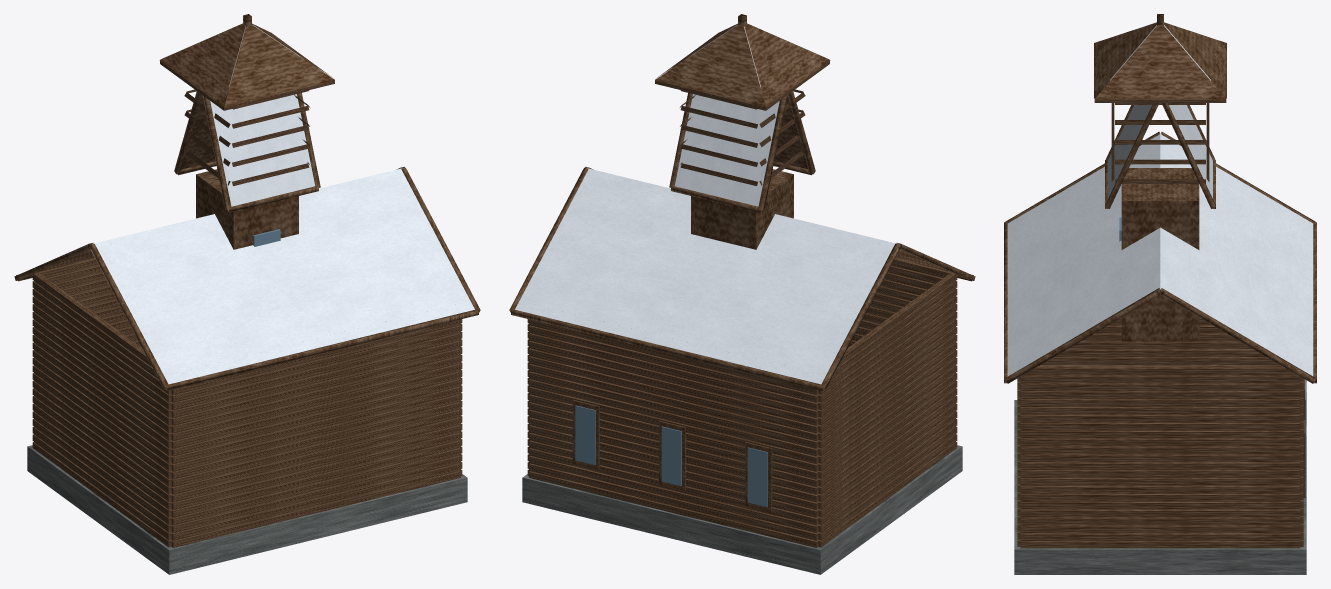
File: church.obj
3 renders of one model, left to right at view 1: azimuth 30°, elevation 25°; view 2: azimuth 150°, elevation 25°; view 3: azimuth 270°, elevation 25°, orthographic. The views are drawn at different scales.
Parts seen in each view (by area): view 1: church; view 2: church; view 3: church.
Part boxes in pixels (x1,y1,x2,y2): church: [14, 14, 480, 574]; church: [509, 14, 975, 574]; church: [1004, 14, 1316, 574].
Size of the model in its own units: 12.06 by 17.2 by 10.06.
8 materials, 7 textured.
